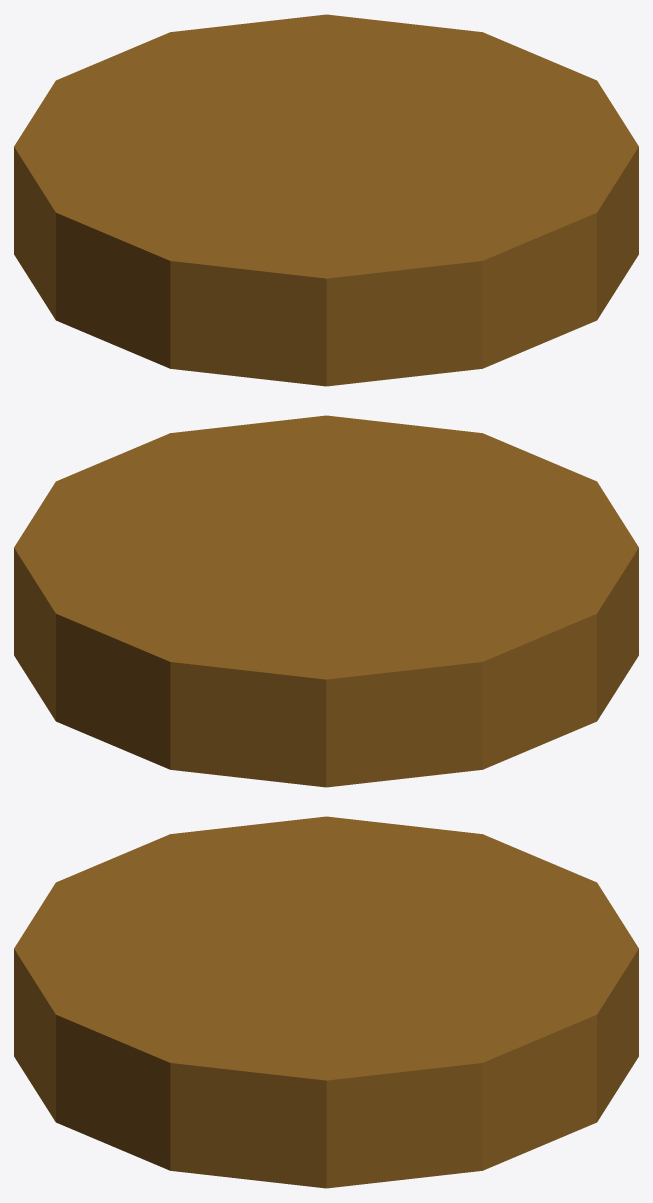
The model's file is C16_Token_Premium.obj.
The picture shows the model from 3 angles, top to bottom: view 1: azimuth 30°, elevation 25°; view 2: azimuth 150°, elevation 25°; view 3: azimuth 270°, elevation 25°; orthographic projection.
Parts seen in each view (by area): view 1: C16_Token_Premium; view 2: C16_Token_Premium; view 3: C16_Token_Premium.
Part boxes in pixels (x1,y1,x2,y2): C16_Token_Premium: (14,14,638,386); C16_Token_Premium: (14,415,638,787); C16_Token_Premium: (14,816,638,1188).
Size of the model in its own units: 0.42 by 0.08 by 0.42.
